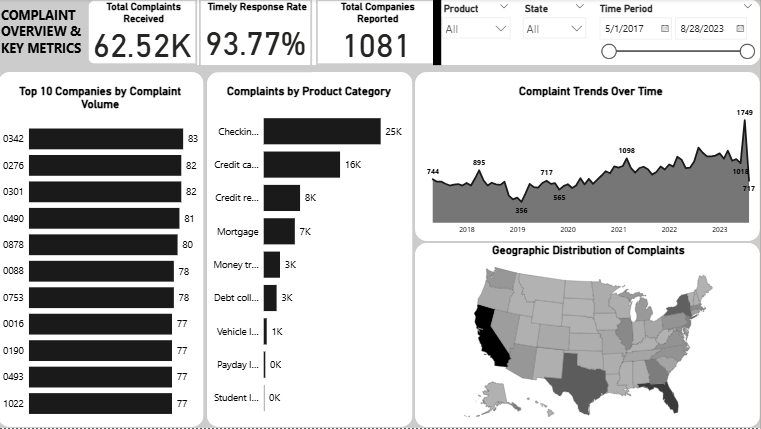

What the dashboard file says about the page in this screenshot:
{"tool":"powerbi","page":{"name":"Overview & Key Insights","canvas":[1280,720],"ordinal":0},"visuals":[{"type":"shape","box":[0,0,1280,720.6],"z":0},{"type":"shape","box":[0,123,345.2,596.4],"z":1000,"group":"g1"},{"type":"shape","box":[148.7,0,1131.3,111.1],"z":1000},{"type":"shape","box":[350.3,123,345.2,596.4],"z":2000,"group":"g1"},{"type":"shape","box":[700.7,123,579.3,283.7],"z":3000,"group":"g1"},{"type":"shape","box":[700.7,410.1,579.3,309.3],"z":3500,"group":"g1"},{"type":"slicer","fields":{"Values":["Complaints (Fact).Product"]},"box":[736.1,0,134.6,111.2],"z":4000},{"type":"slicer","fields":{"Values":["Complaints (Fact).Date submitted"]},"box":[998,0,282,164.1],"z":5000},{"type":"slicer","fields":{"Values":["Complaints (Fact).State Names"]},"box":[872.2,0,125.9,111.2],"z":6000},{"type":"group","id":"g1","title":"Group 1","box":[0,123,1280,596.4],"z":7000},{"type":"card","title":"Total Complaints Received","fields":{"Values":["CountNonNull(Complaints (Fact).Complaint ID)"]},"box":[148.7,0,184.6,111.1],"z":8000},{"type":"card","title":"Total Companies Reported","fields":{"Values":["CountNonNull(Company.Company_ID_1081)"]},"box":[534.9,0,201.7,111.1],"z":9000},{"type":"areaChart","title":"Complaint Trends Over Time","fields":{"Y":["CountNonNull(Complaints (Fact).Complaint ID)"],"Category":["Complaints (Fact).Date submitted.Variation.Date Hierarchy.Year","Complaints (Fact).Date submitted.Variation.Date Hierarchy.Quarter","Complaints (Fact).Date submitted.Variation.Date Hierarchy.Month"]},"box":[712.6,143.6,567.4,263.2],"z":10000},{"type":"clusteredBarChart","title":"Complaints by Product Category","fields":{"Y":["CountNonNull(Complaints (Fact).Complaint ID)"],"Category":["Complaints (Fact).Product"]},"box":[344.4,142.8,356.1,577.8],"z":11000},{"type":"shapeMap","title":"Geographic Distribution of Complaints","fields":{"Category":["Complaints (Fact).State Names"],"Value":["CountNonNull(Complaints (Fact).Complaint ID)"]},"box":[712.2,409.9,559.4,310.8],"z":12000},{"type":"clusteredBarChart","title":"Top 10 Companies by Complaint Volume","fields":{"Category":["Company.Company_ID_1081"],"Y":["CountNonNull(Complaints (Fact).Complaint ID)"]},"box":[0,143.6,343.5,577.6],"z":13000},{"type":"card","title":"Timely Response Rate","fields":{"Values":["Complaints (Fact).% Timely Responses1"]},"box":[338.4,0,189.7,123],"z":14000},{"type":"shape","box":[731.4,0,13.7,111.1],"z":15000},{"type":"textbox","box":[0,6.8,148.7,111.1],"z":16000}]}

Visuals, with their boxes in screenshot pixels (x1, y1, x2, y2), scaled from the page's 1280x720 canvas onto the 761x429 screenshot:
shape: {"left": 0, "top": 0, "right": 760, "bottom": 428}
shape: {"left": 0, "top": 73, "right": 205, "bottom": 428}
shape: {"left": 88, "top": 0, "right": 760, "bottom": 66}
shape: {"left": 208, "top": 73, "right": 413, "bottom": 428}
shape: {"left": 417, "top": 73, "right": 760, "bottom": 242}
shape: {"left": 417, "top": 244, "right": 760, "bottom": 428}
slicer - Complaints (Fact).Product: {"left": 438, "top": 0, "right": 518, "bottom": 66}
slicer - Complaints (Fact).Date submitted: {"left": 593, "top": 0, "right": 760, "bottom": 98}
slicer - Complaints (Fact).State Names: {"left": 519, "top": 0, "right": 593, "bottom": 66}
"Group 1" group: {"left": 0, "top": 73, "right": 760, "bottom": 428}
"Total Complaints Received" card: {"left": 88, "top": 0, "right": 198, "bottom": 66}
"Total Companies Reported" card: {"left": 318, "top": 0, "right": 438, "bottom": 66}
"Complaint Trends Over Time" areaChart: {"left": 424, "top": 86, "right": 760, "bottom": 242}
"Complaints by Product Category" clusteredBarChart: {"left": 205, "top": 85, "right": 416, "bottom": 428}
"Geographic Distribution of Complaints" shapeMap: {"left": 423, "top": 244, "right": 756, "bottom": 428}
"Top 10 Companies by Complaint Volume" clusteredBarChart: {"left": 0, "top": 86, "right": 204, "bottom": 428}
"Timely Response Rate" card: {"left": 201, "top": 0, "right": 314, "bottom": 73}
shape: {"left": 435, "top": 0, "right": 443, "bottom": 66}
textbox: {"left": 0, "top": 4, "right": 88, "bottom": 70}
